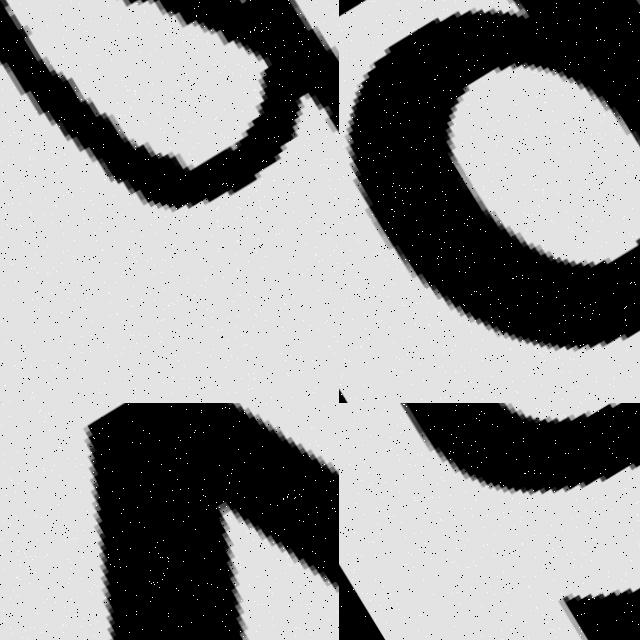A: (339, 403, 640, 640)
D: (0, 0, 339, 403), (339, 0, 640, 403)
V: (0, 403, 339, 640)
